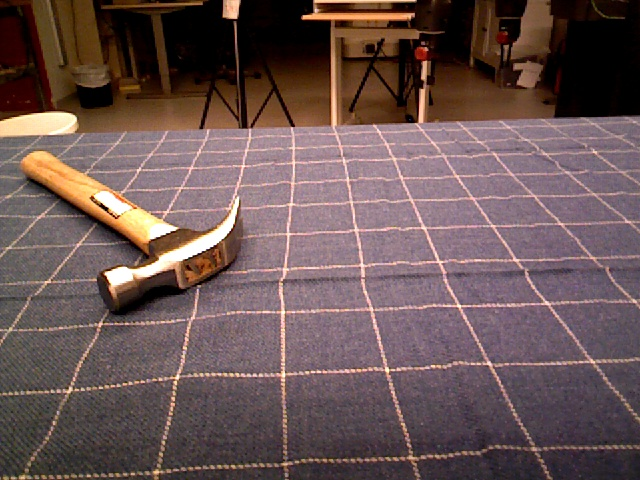hammer1: (18, 149, 245, 312)
